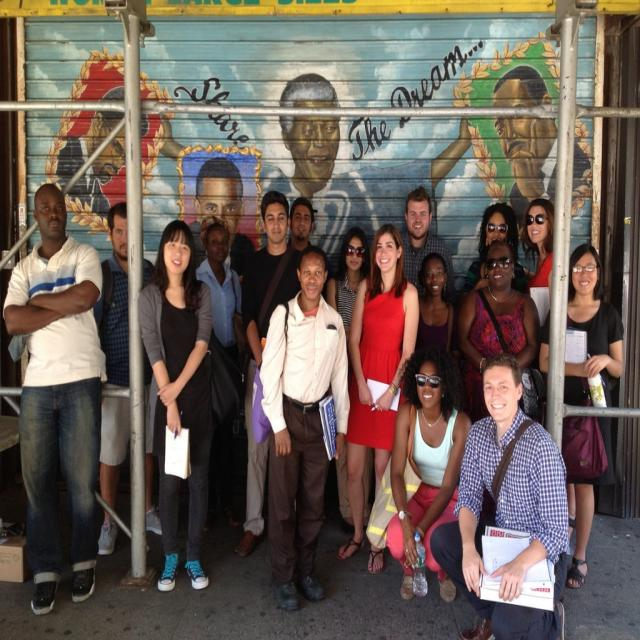body: (54, 62, 592, 238), (1, 180, 110, 619), (426, 348, 572, 639), (250, 242, 352, 612), (332, 220, 422, 576), (536, 242, 624, 590), (137, 216, 217, 592), (92, 200, 164, 556), (235, 189, 303, 561), (382, 342, 473, 605), (454, 239, 542, 425), (324, 223, 375, 537), (194, 220, 244, 537), (392, 185, 457, 307), (459, 200, 529, 308), (520, 197, 556, 328), (413, 251, 452, 367), (288, 195, 316, 269)
